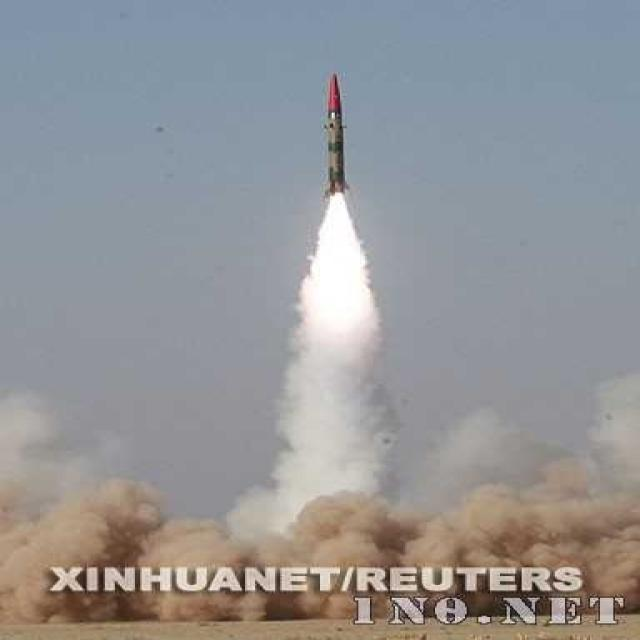missile: (319, 67, 352, 202)
